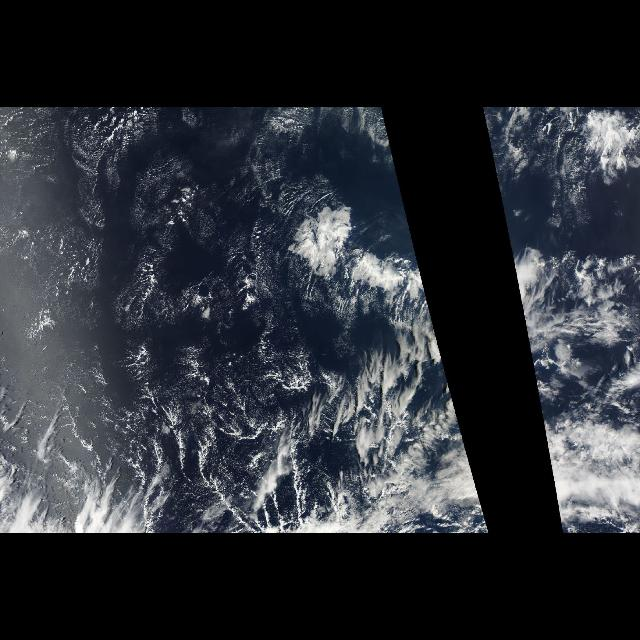Fish: (288, 186, 438, 330), (498, 186, 556, 330)
Flower: (284, 204, 432, 310)
Sugar: (1, 107, 353, 419)
